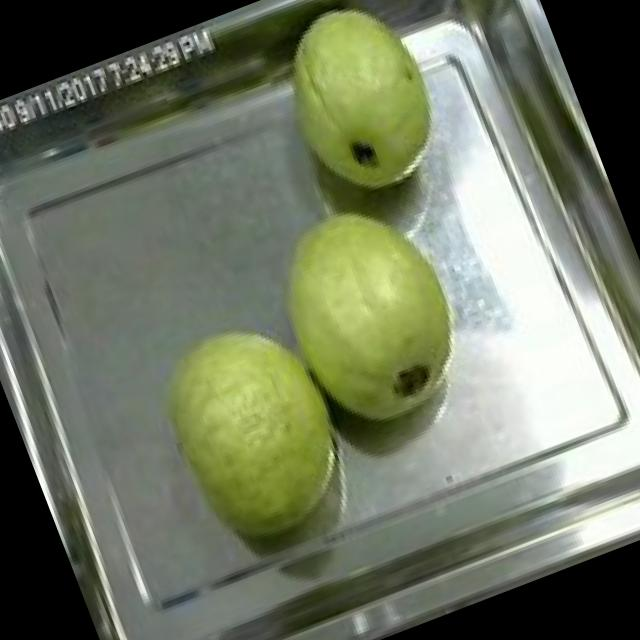Fruit: (236, 168, 500, 463), (137, 290, 380, 564), (242, 0, 473, 224)
